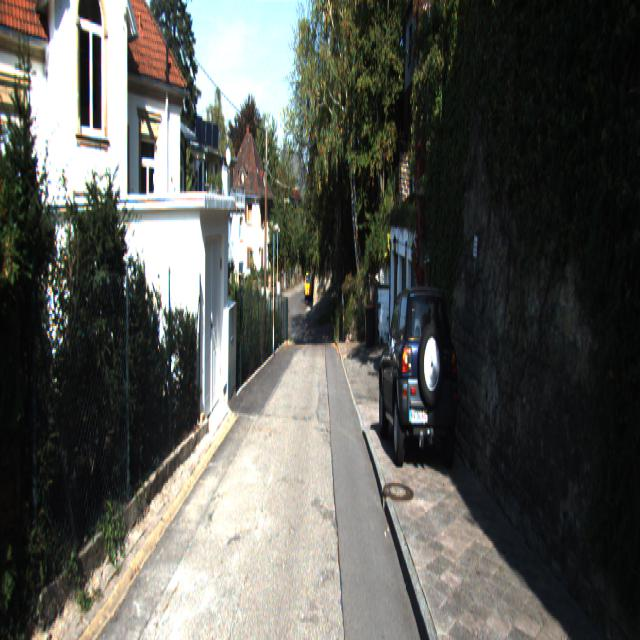Car: (377, 280, 461, 476)
